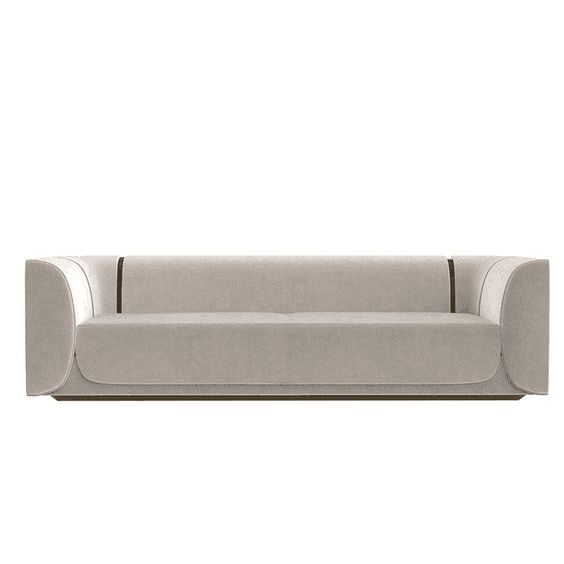3seatersofa: (26, 256, 548, 399)
backrest: (76, 257, 502, 314)
base: (49, 351, 528, 396)
leftarmrest: (480, 259, 548, 392)
leg: (52, 394, 524, 400)
rightarmrest: (26, 258, 93, 394)
seat: (77, 314, 500, 383)
